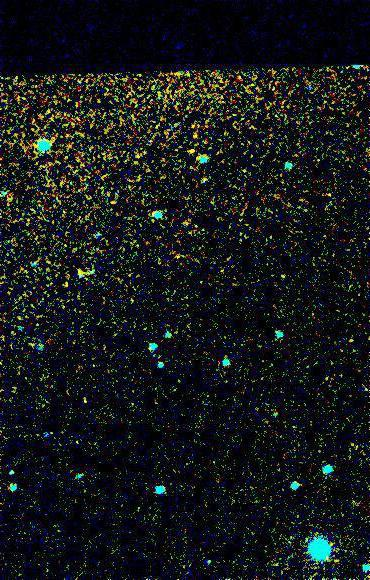star: (180, 135, 210, 165)
